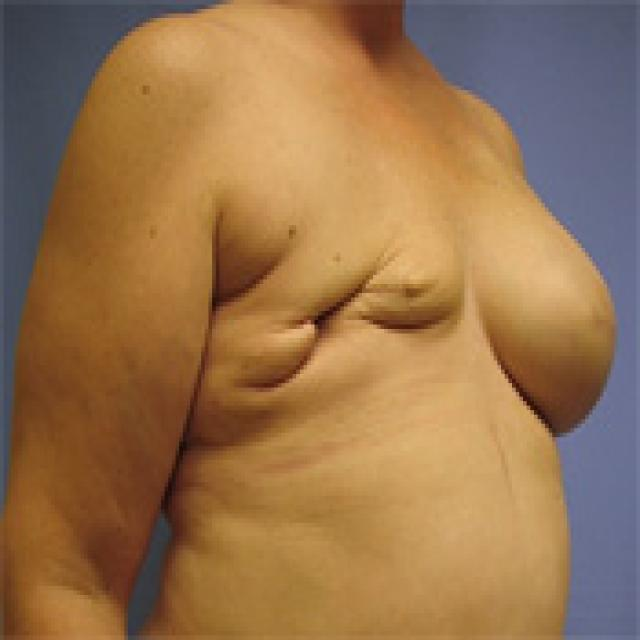Seno herido: (207, 216, 468, 461)
Seno ileso: (471, 131, 625, 461)
